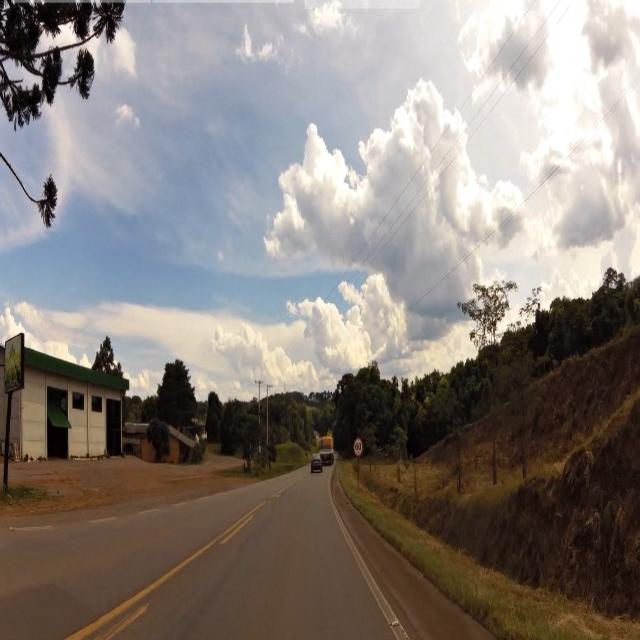R-19: (354, 436, 362, 459)
